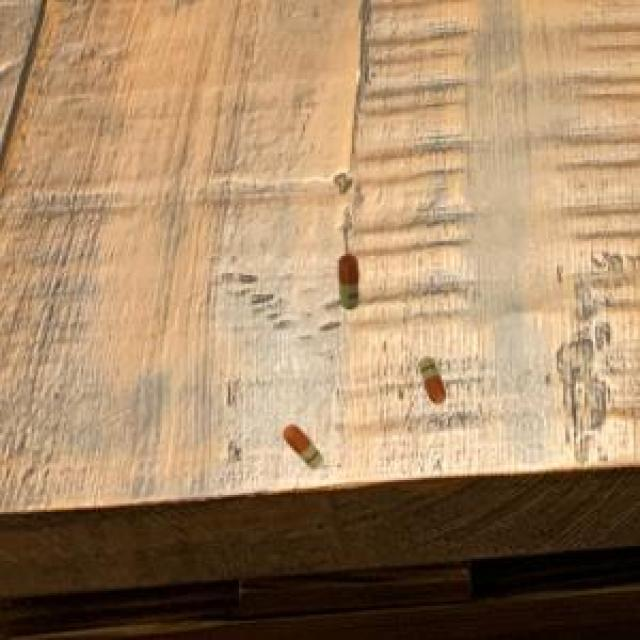Alaxan: (277, 418, 329, 479), (329, 250, 369, 324), (416, 350, 454, 416)
